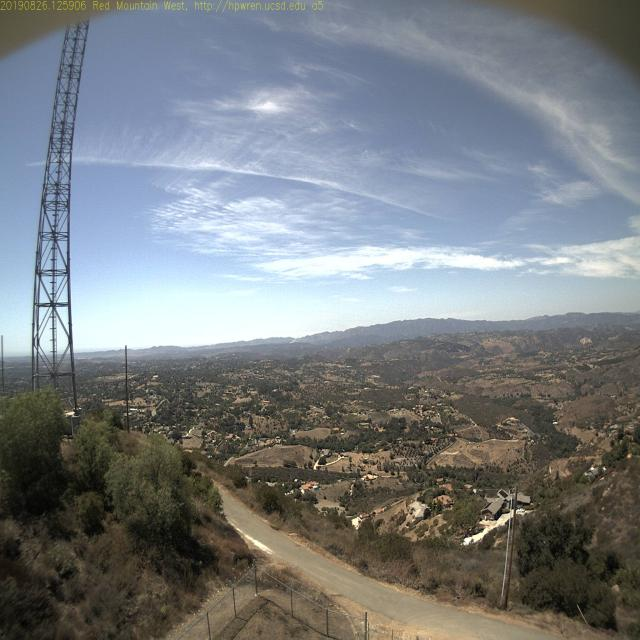smoke: (286, 333, 297, 347)
